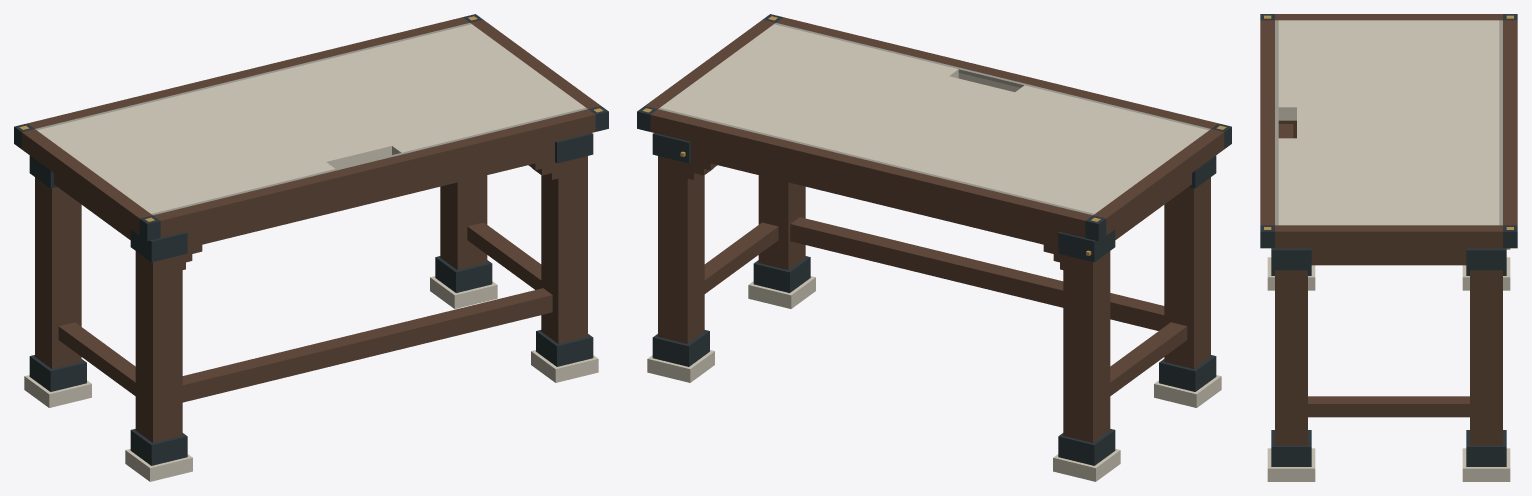
The picture shows the model from 3 angles, left to right: view 1: azimuth 30°, elevation 25°; view 2: azimuth 150°, elevation 25°; view 3: azimuth 270°, elevation 25°; orthographic projection. The views are drawn at different scales.
Visible parts, largest first — view 1: 办公桌桌架; view 2: 办公桌桌架; view 3: 办公桌桌架.
Boxes of the visible parts, x1,y1,x2,y2 form: 办公桌桌架: (14, 14, 608, 481); 办公桌桌架: (637, 14, 1231, 481); 办公桌桌架: (1260, 14, 1517, 481).
Bounding box in the file's own units: 1.4 × 0.76 × 0.7.
Materials: 6 (6 with a texture image).
